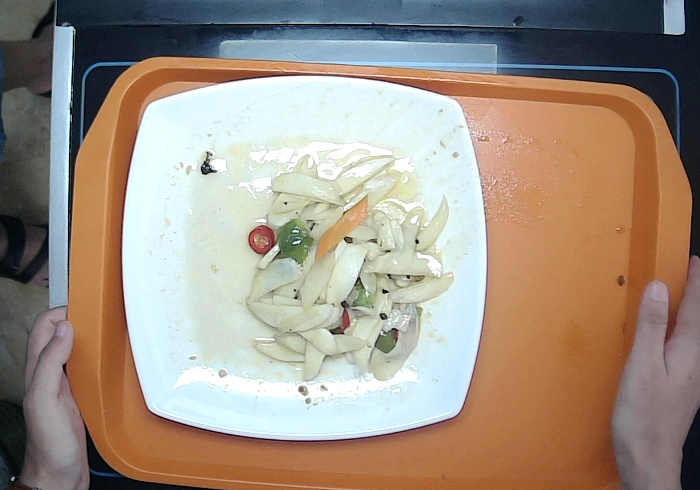ZNLD-Bai_Fang_Pan: (96, 43, 512, 460)
